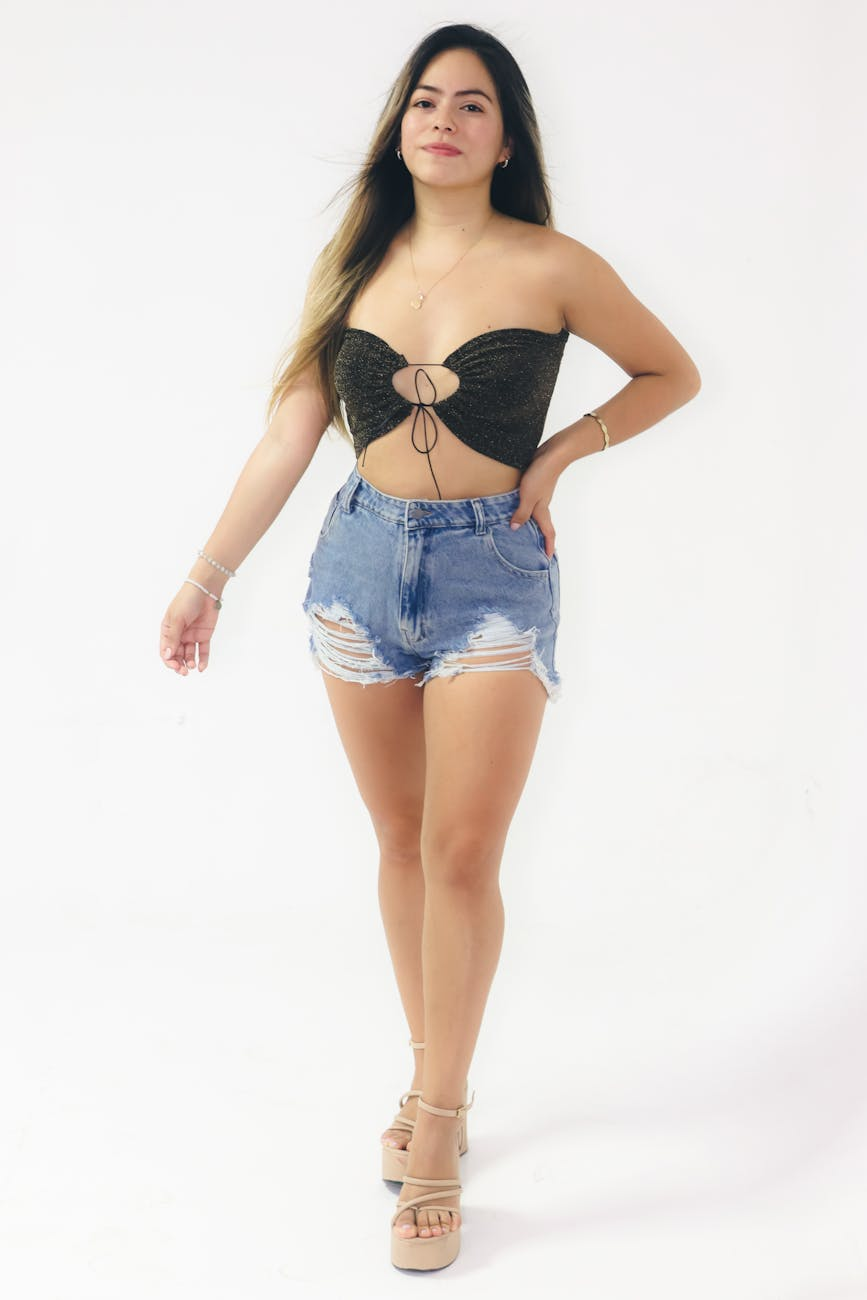crop_top: (320, 234, 584, 471)
opened_foot: (381, 1104, 469, 1272), (377, 1040, 462, 1183)
shorts: (291, 479, 574, 690)
